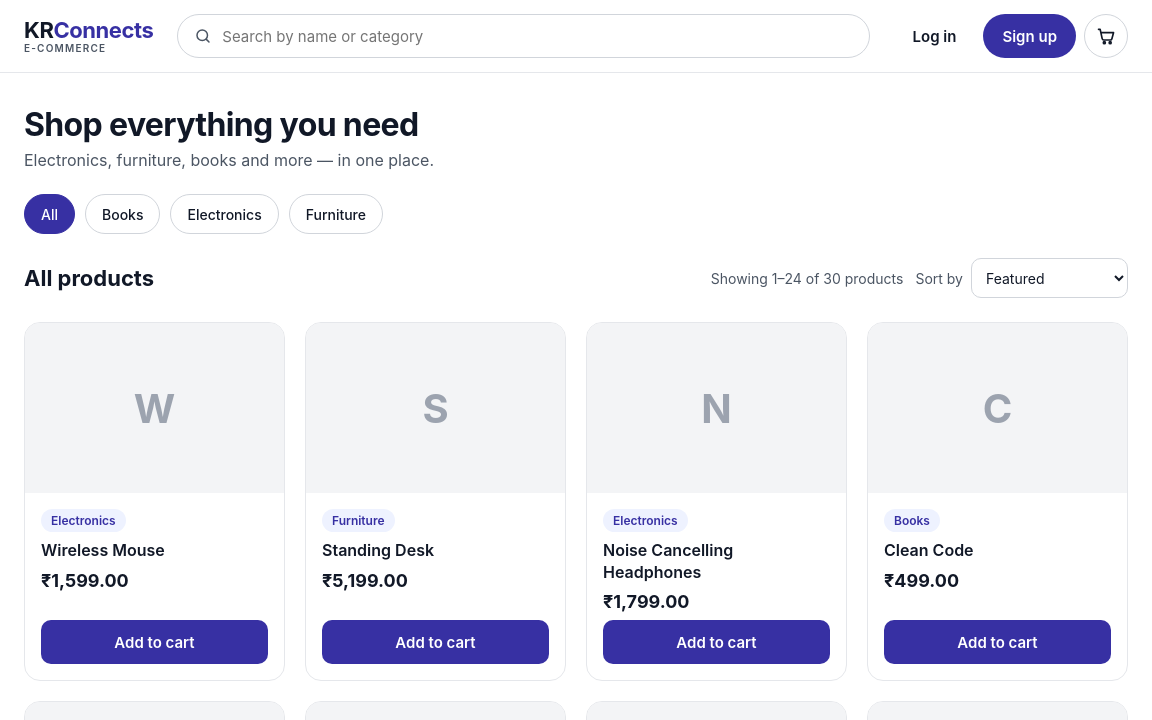
Test: App (storefront home page) › filters products when a category chip is clicked
The image size is (1152, 720).
Check: the link "Wireless Mouse" is shown, box [41,540,165,560]
What coordinates should you click on to do the following:
click the button "Furniture"
I would click on:
 (336, 214)
Its box is [289,194,383,234].
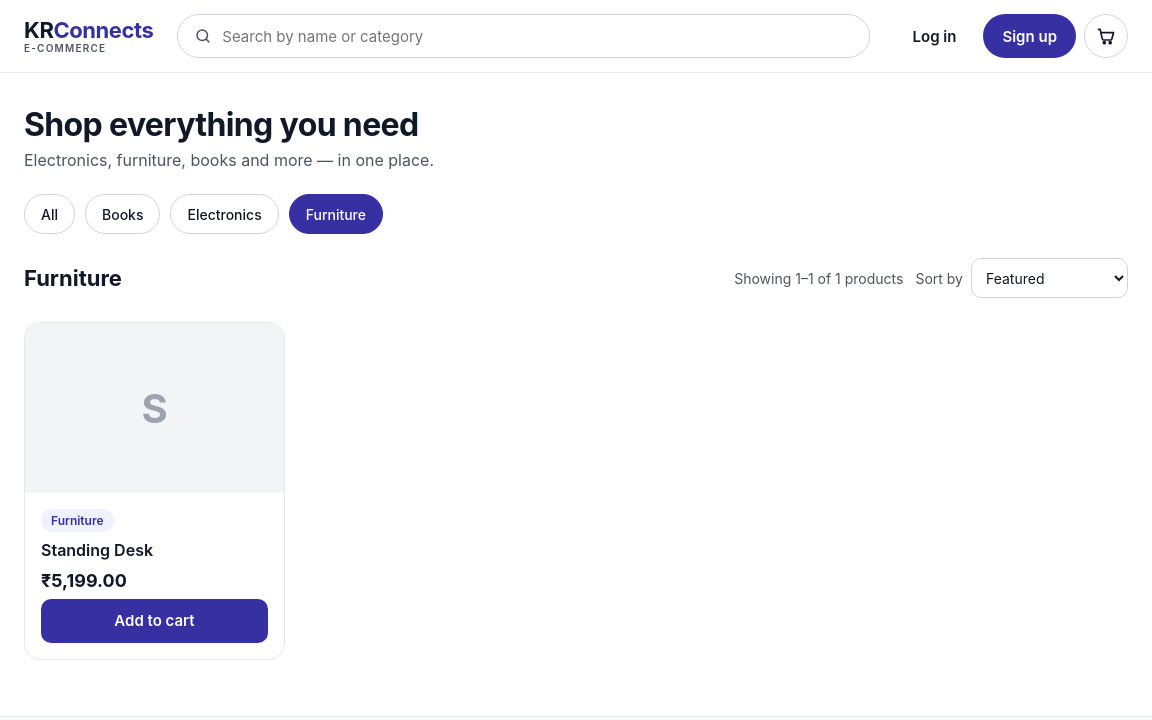
Check: the link "Standing Desk" is shown, box [41,540,153,560]
Check: the text "Showing 1–1 of 1 products" is shown, box [734,270,903,286]
